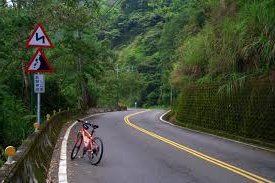Double_bend_left: (24, 22, 54, 48)
